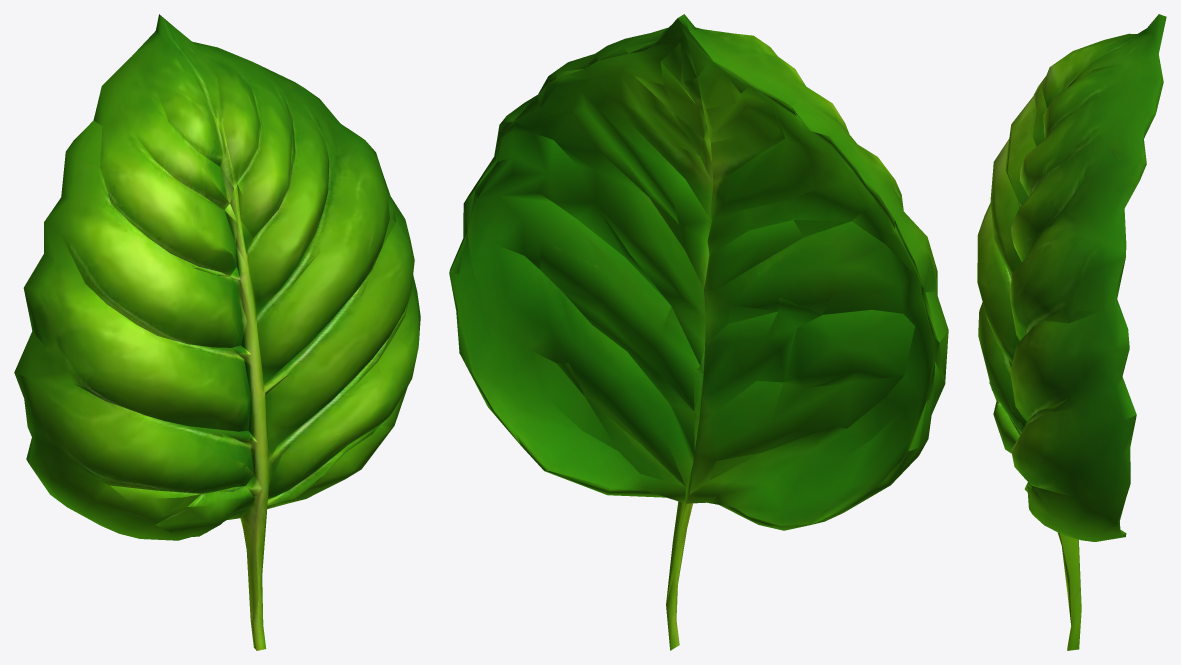
The model's file is bigLeaf.glb.
The picture shows the model from 3 angles, left to right: view 1: azimuth 30°, elevation 25°; view 2: azimuth 150°, elevation 25°; view 3: azimuth 270°, elevation 25°; orthographic projection. The views are drawn at different scales.
Parts seen in each view (by area): view 1: model; view 2: model; view 3: model.
Boxes of the visible parts, bbox=[...] form: model: bbox=[14, 14, 420, 650]; model: bbox=[449, 14, 948, 650]; model: bbox=[977, 14, 1166, 650].
Size of the model in its own units: 1.34 by 1.9 by 0.5339.
Materials: 1 (1 with a texture image).
